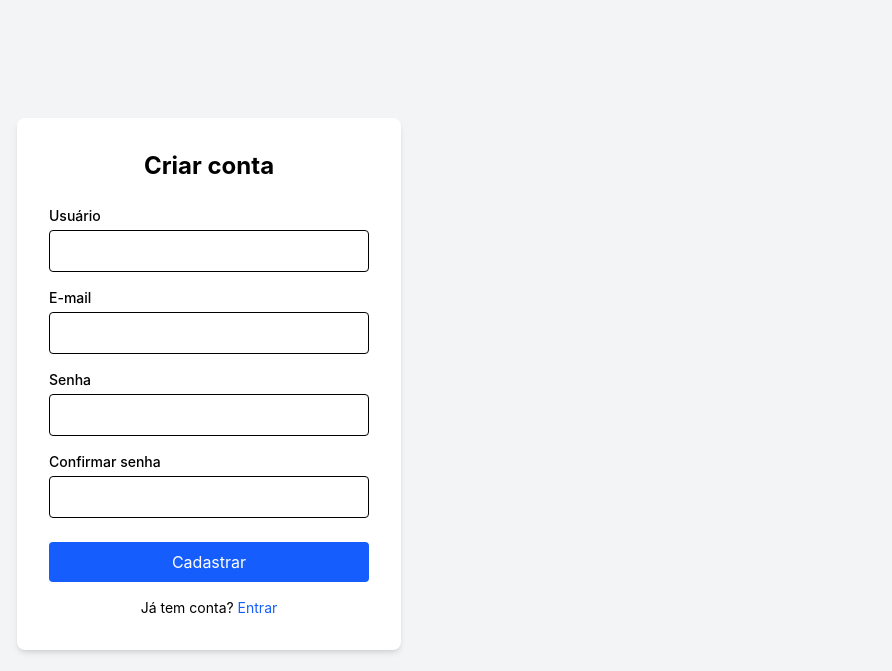
Test: RegisterPage › não permite submeter o form vazio
Click the button "Cadastrar". click: (209, 562)
box: x1=49 y1=542 x2=369 y2=582
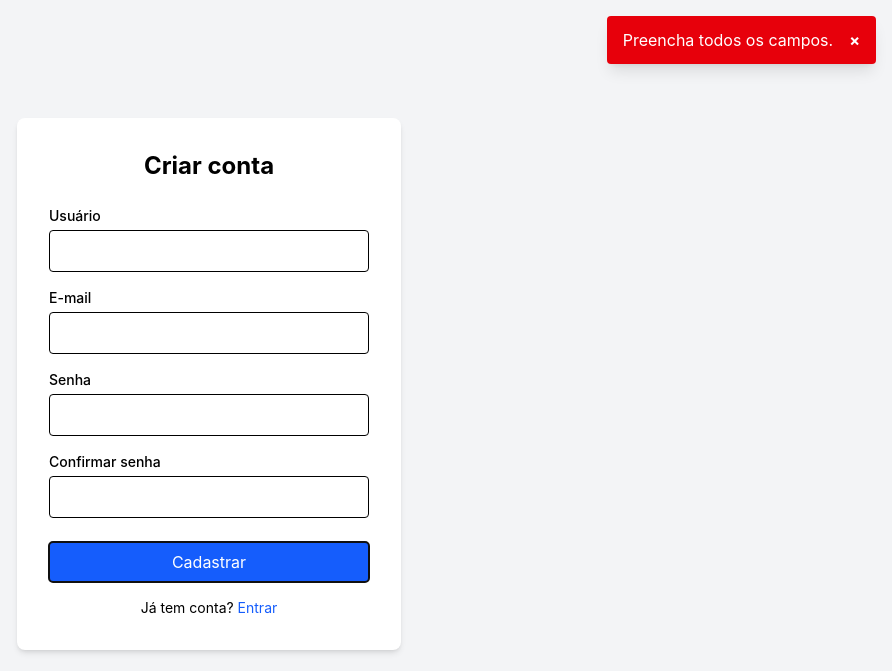
Expected: the text "Preencha todos os campos." is shown, x1=623 y1=28 x2=833 y2=52
